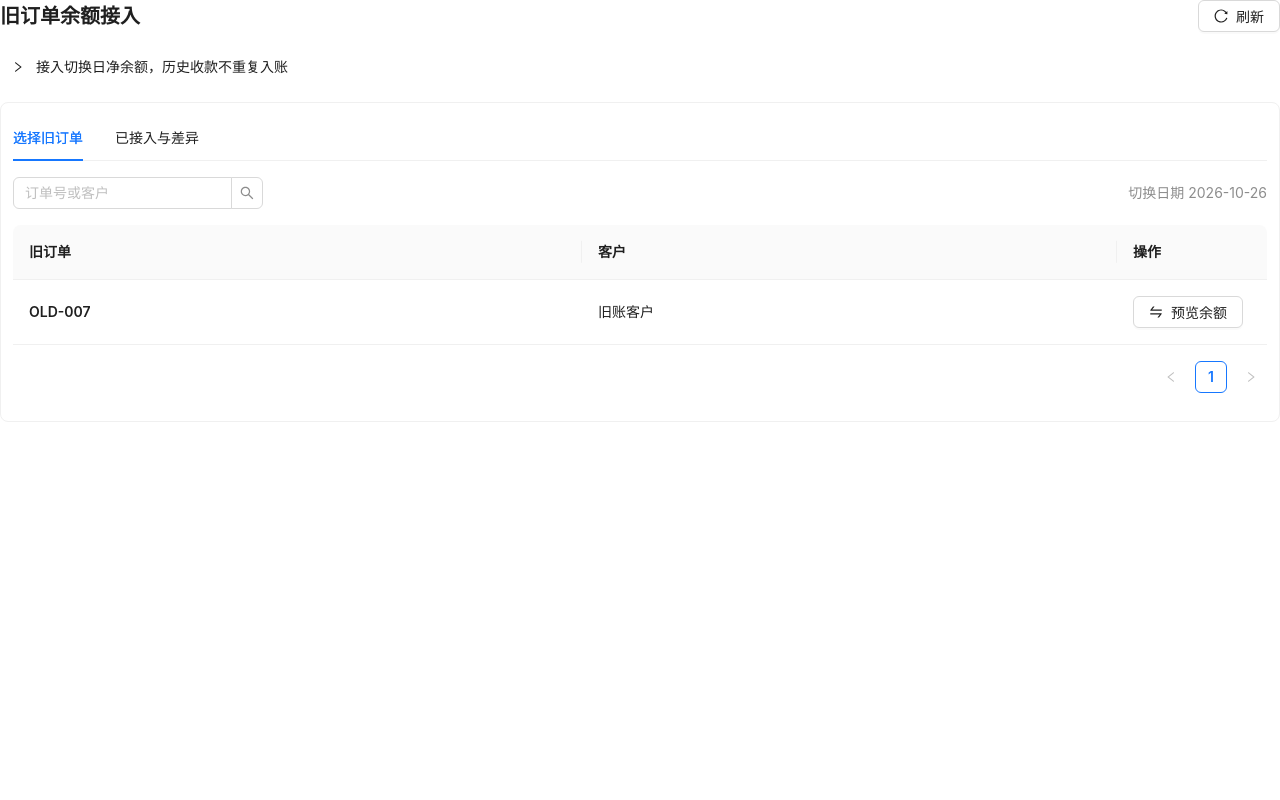
Scenario: pending finance activity blocks import and displays the concrete reason
Expected: the text "OLD-007" is shown, [29, 303, 91, 320]
Click the button "预览余额". click: click(1188, 312)
box: [1133, 296, 1243, 328]
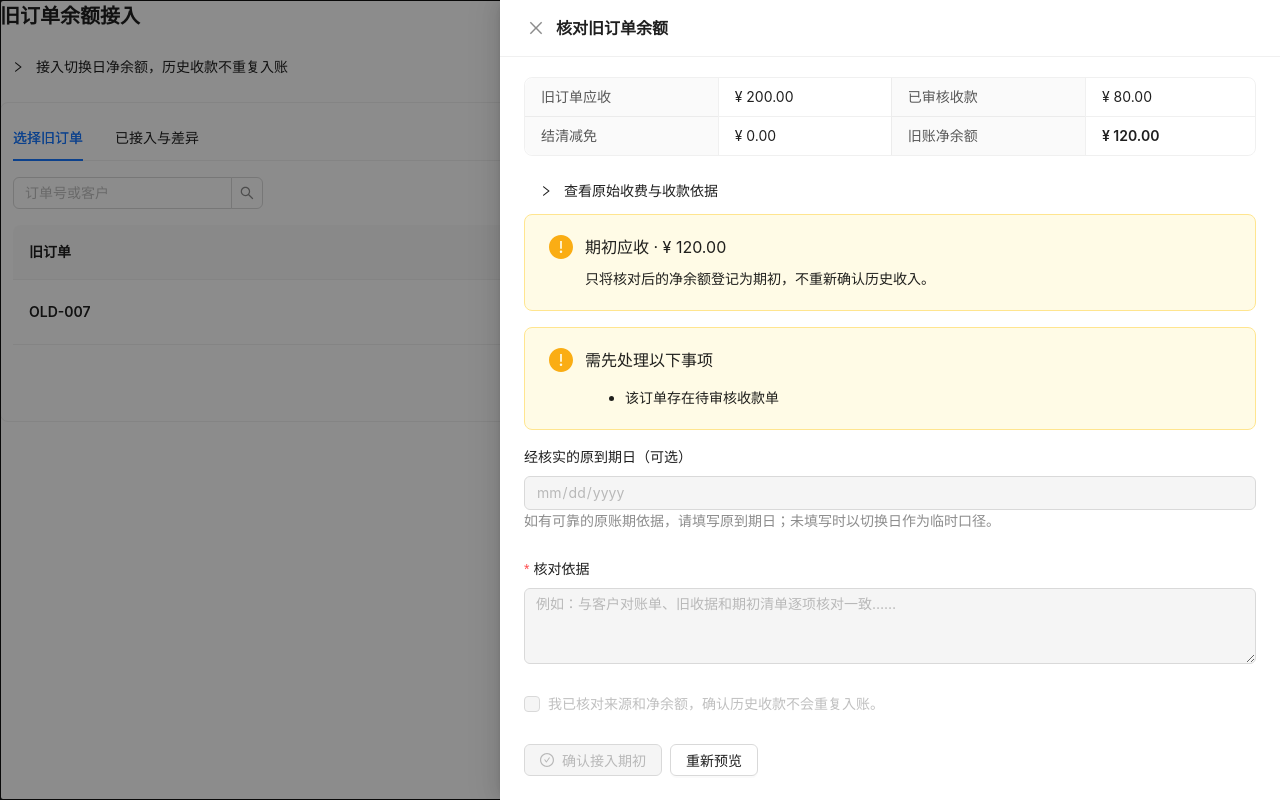
Result: the text "旧账净余额" is shown at [908, 127, 978, 144]
Result: the list item "该订单存在待审核收款单" is shown at [625, 389, 779, 406]
Result: the button "确认接入期初" is disabled at [524, 744, 662, 776]
